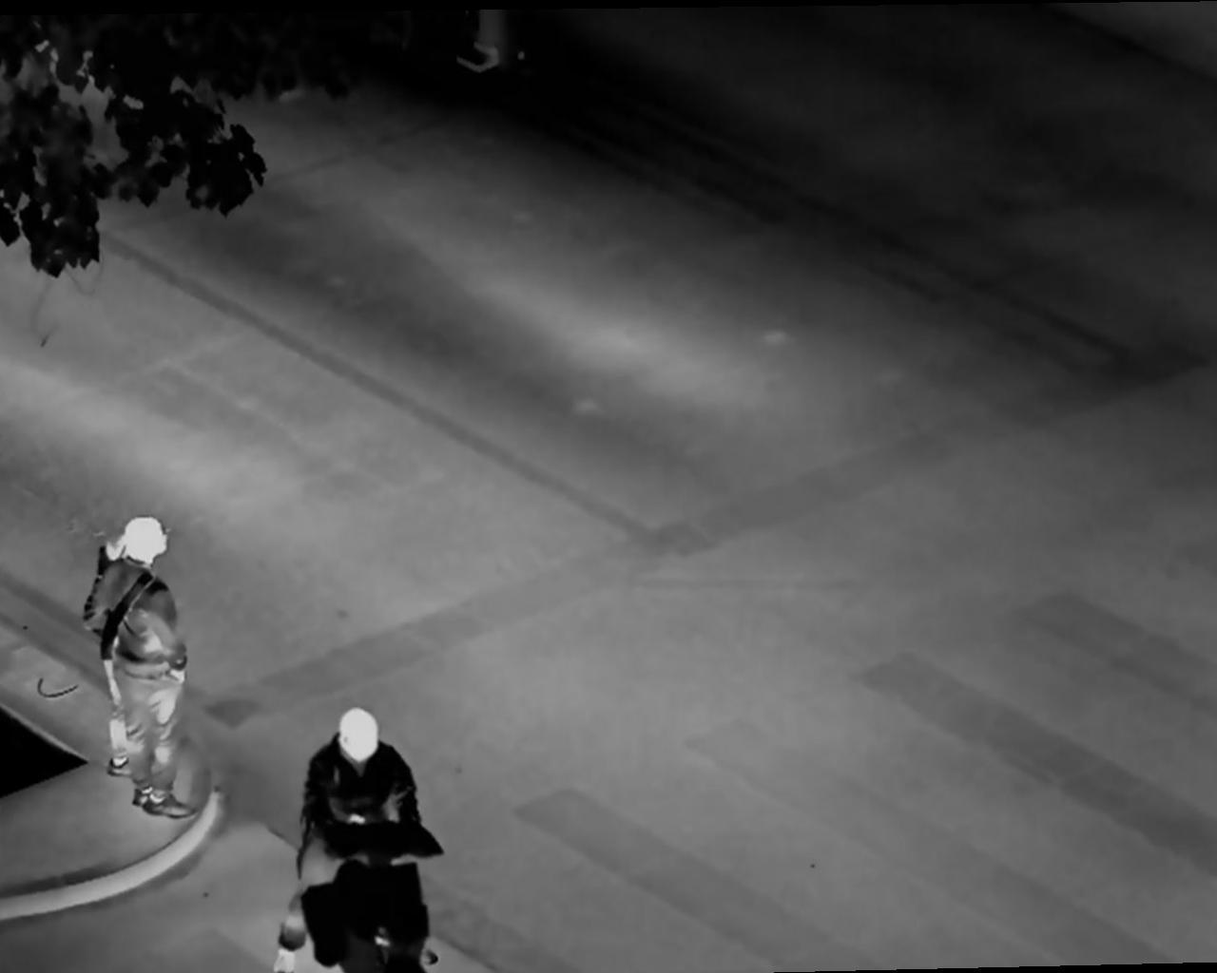person: (285, 706, 435, 972), (92, 512, 211, 826)
